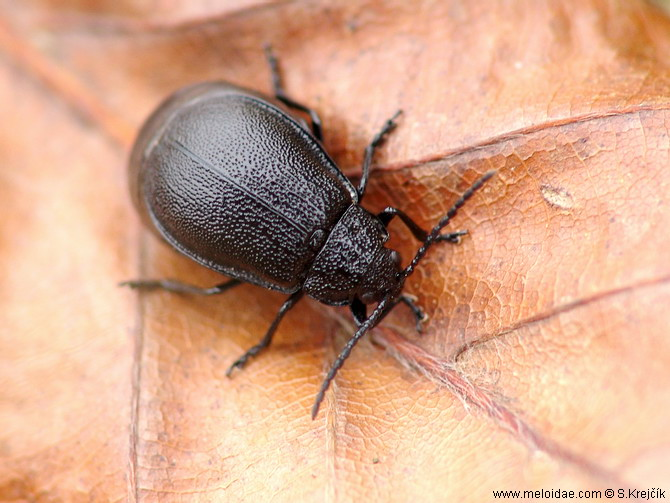Galeruca_tanaceti: (114, 36, 500, 424)
